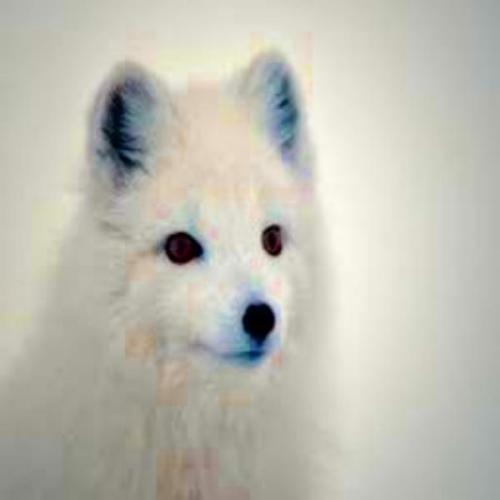arctic_fox-endangered: (0, 53, 344, 500)
